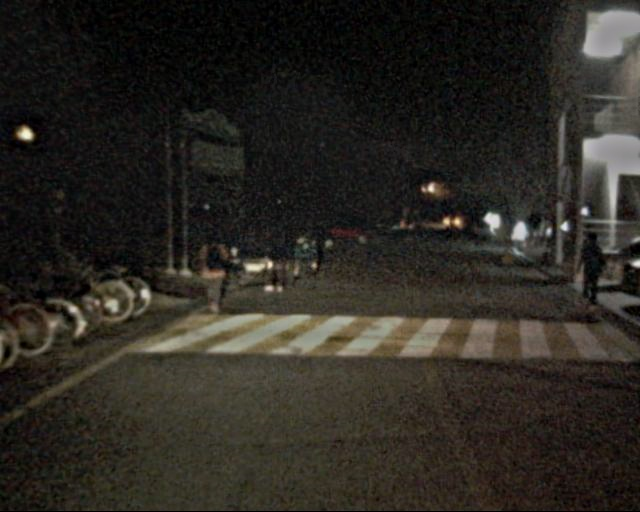person: (197, 226, 232, 317), (573, 234, 606, 317), (262, 221, 296, 295)
